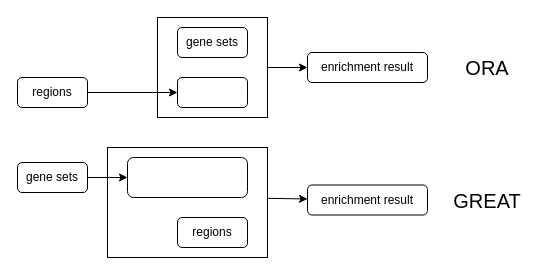
The diagram is 538 pixels wide and 275 high, and some of its shapes have lost their labels. The shapes that lost their labels are listed below. From the top down, each one's centre as x and y in pixels, then its label:
At point 212,92: "genes".
At point 187,177: "region sets functional domains".
